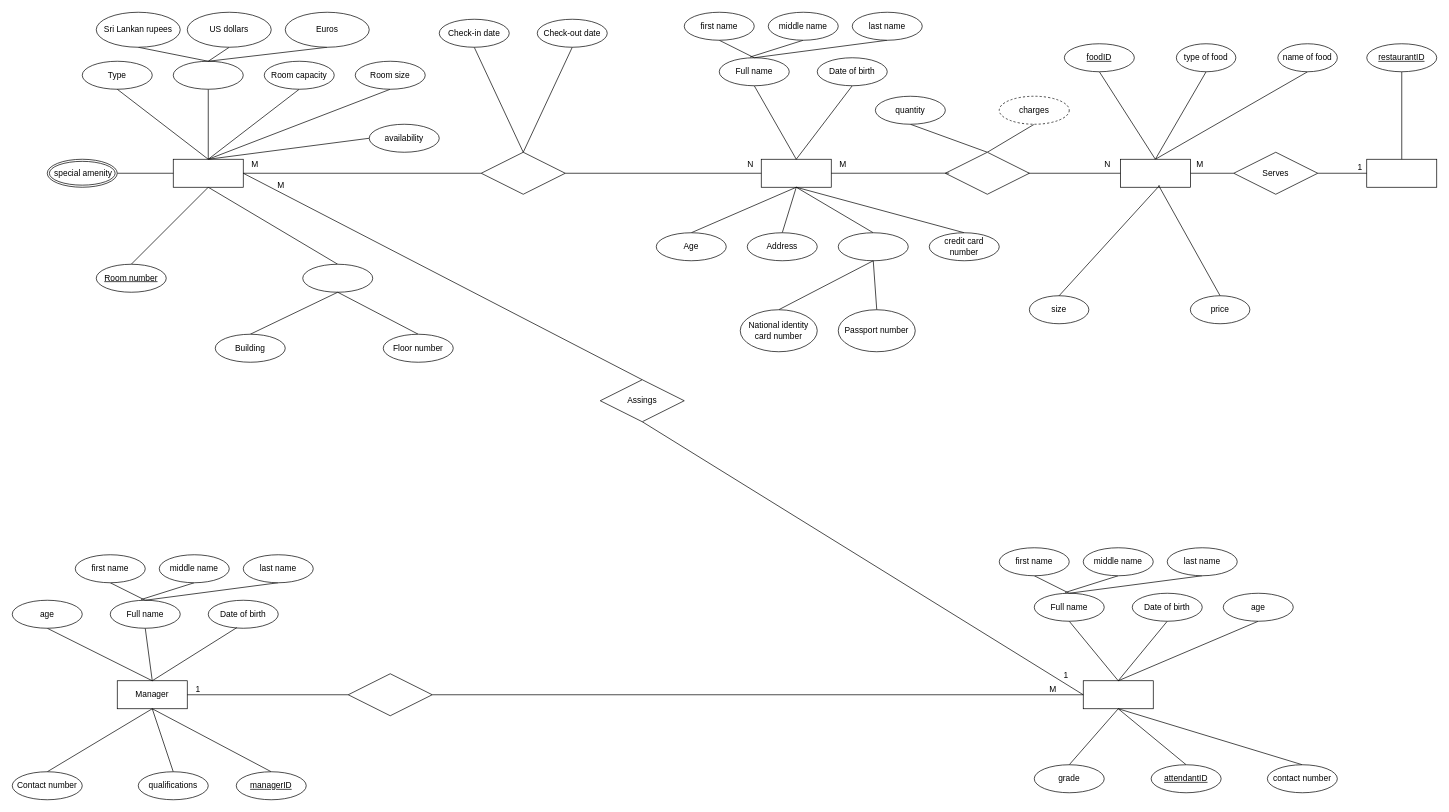
Image size: 1449x812. Some labels were removed from this diagram. Each missing label, with the box of its shape:
Books: (481, 152, 565, 194)
Food: (1120, 159, 1190, 187)
Guest: (761, 159, 831, 187)
Identification: (838, 232, 908, 261)
Location: (302, 264, 373, 292)
Orders: (945, 152, 1029, 194)
Rate per night: (173, 61, 243, 89)
Restaurant: (1366, 159, 1437, 187)
Room: (173, 159, 243, 187)
Room Attendent: (1083, 680, 1153, 709)
Supervises: (348, 673, 432, 716)
